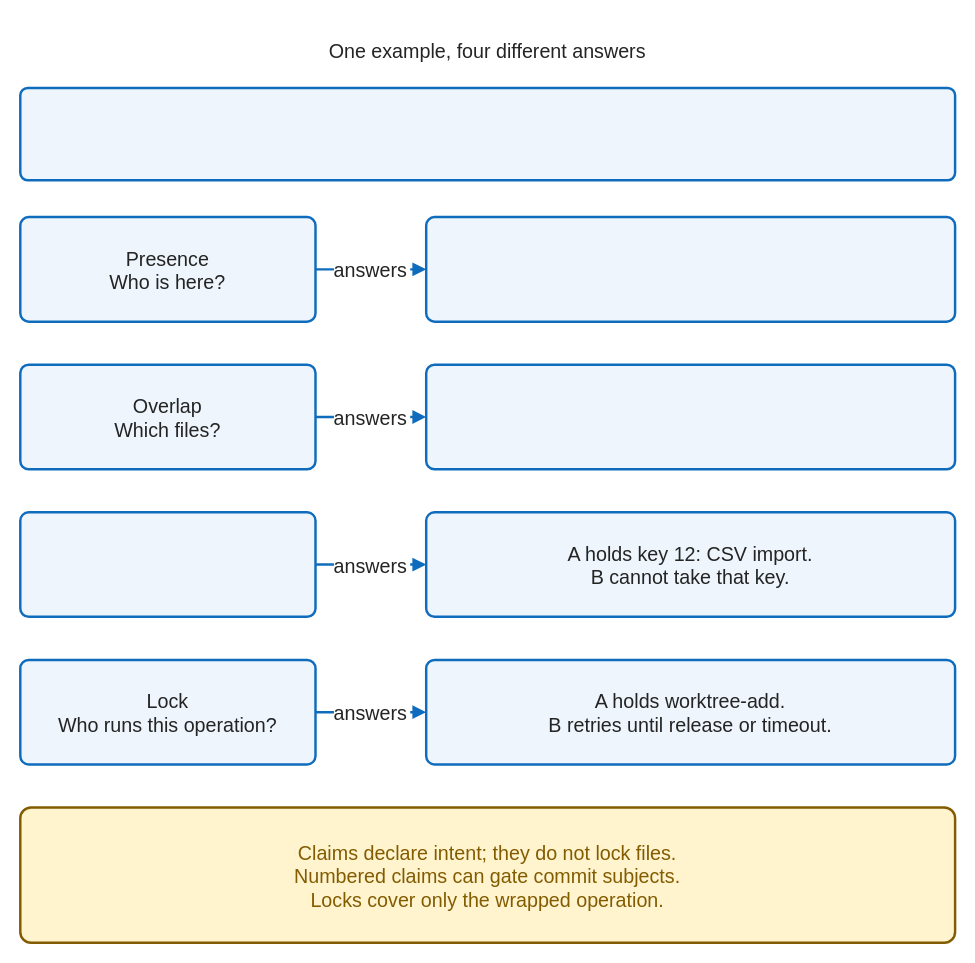
Image size: 975x963. Some labels were removed from this diagram. The shapes that lost their labels are listed below. From the top down, each one's centre as x and y in pixels, then its label:
At point 487,133: "A builds CSV import in worktree A. B starts in worktree B of the same clone.".
At point 690,268: "A is live in worktree A. Observation, not ownership.".
At point 690,416: "A changed csv.py. B can inspect that overlap.".
At point 167,563: "Claim Who plans the work?".
